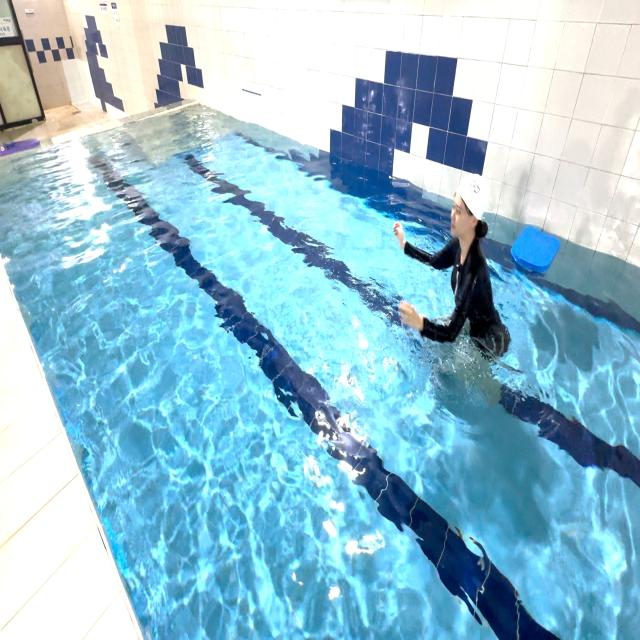Swimming: (382, 137, 524, 416)
